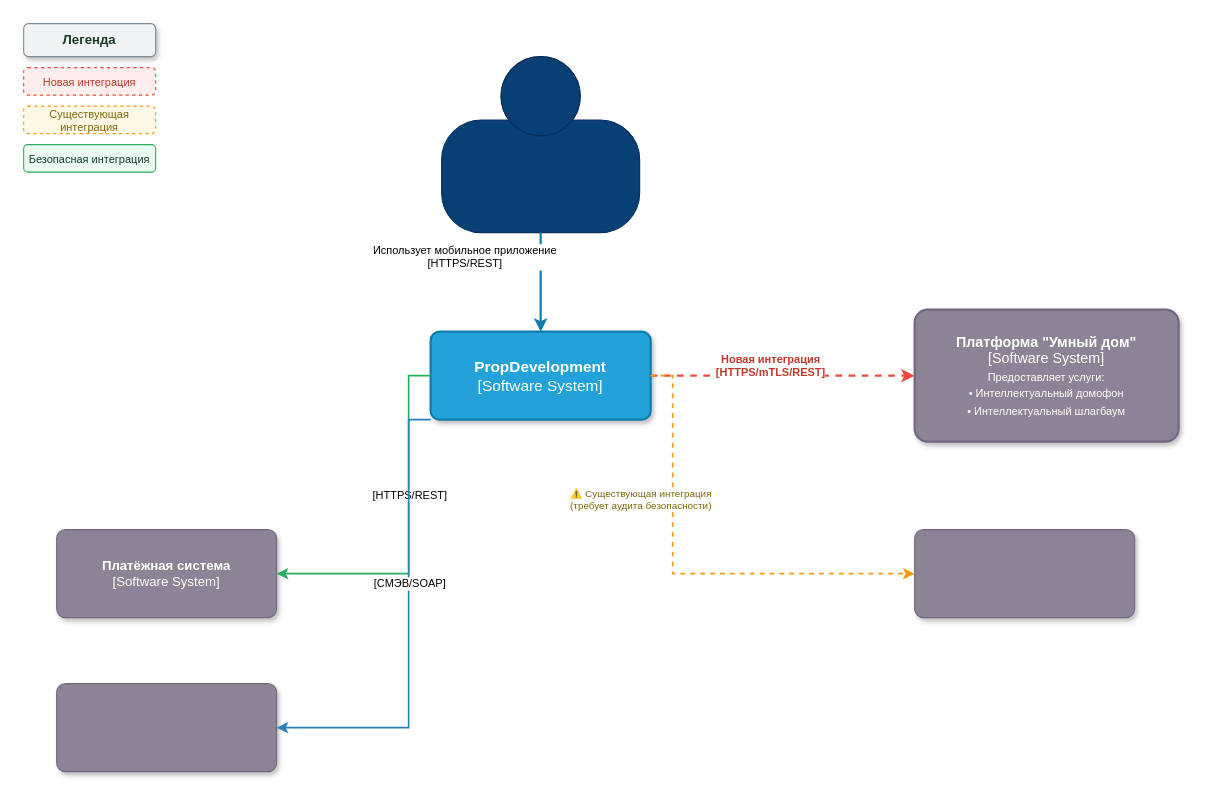
The diagram is 1206 pixels wide and 799 high, and some of its shapes have lost their labels. The shapes that lost their labels are listed below. From the top down, each one's centre as x and y in pixels, then its label:
At point 540,144: "Собственник [Person]".
At point 1025,574: "Поставщик ресурсов ЖКХ [Software System]".
At point 167,728: "Гос. регистрационные органы [Software System]".
